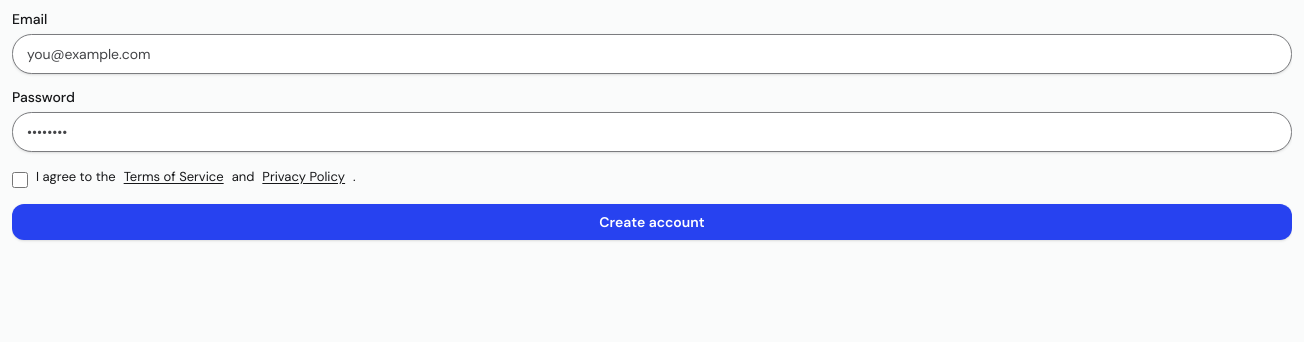
SignUpForm › shows validation error when email is missing
Click the button "Create account".
click(652, 222)  # box [12,204,1292,240]
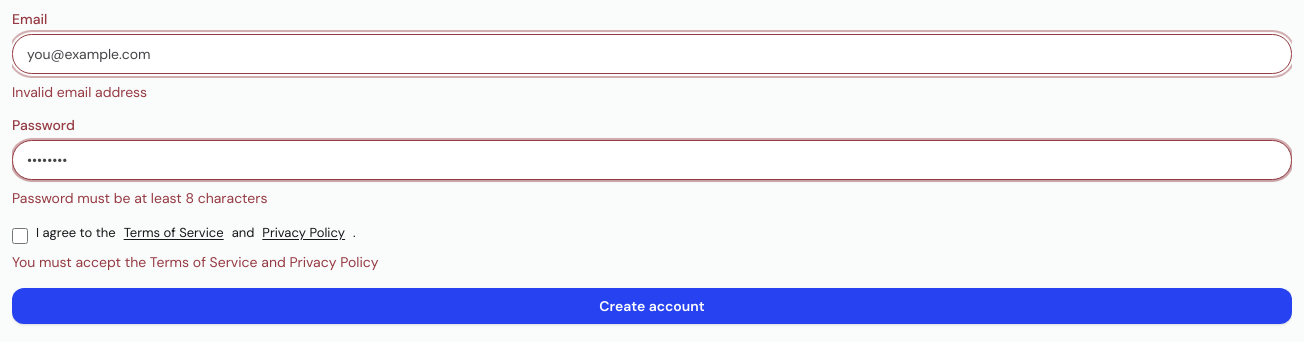
Result: the text "Invalid email address" is shown at [12,83,147,101]
